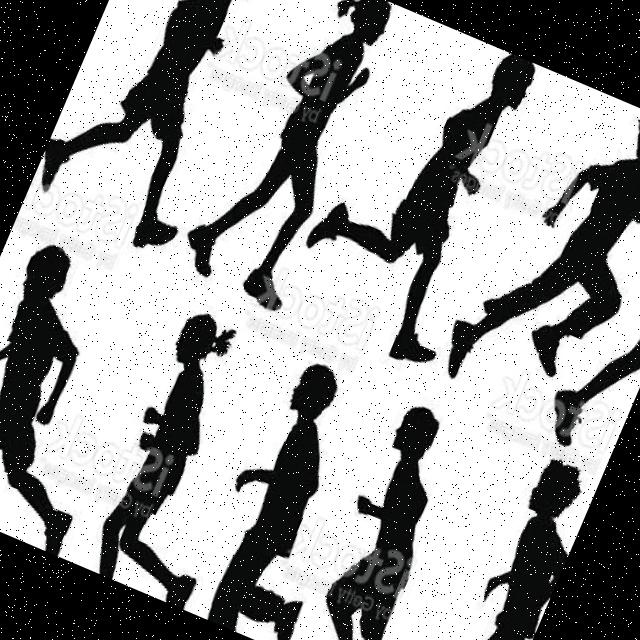Person: (278, 9, 556, 372), (436, 74, 640, 433), (175, 0, 404, 310), (24, 0, 291, 257), (80, 304, 294, 610), (183, 350, 394, 640), (0, 228, 169, 556), (291, 396, 507, 640), (413, 446, 600, 640), (539, 121, 640, 462)
